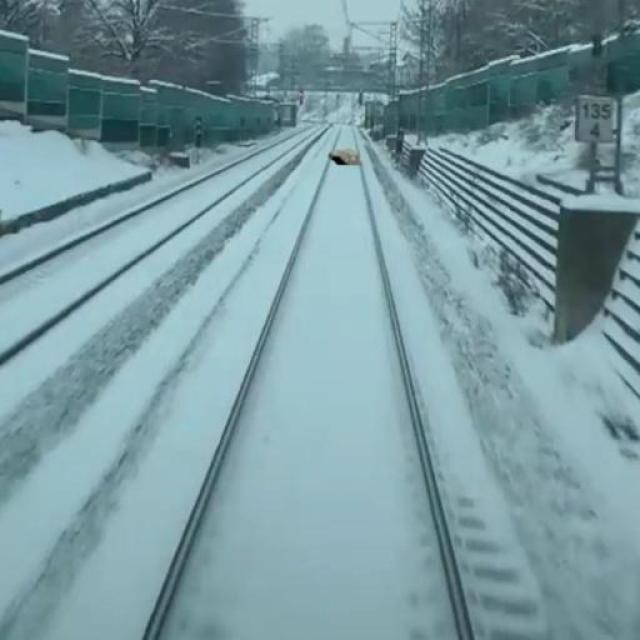Stone: (324, 143, 369, 166)
